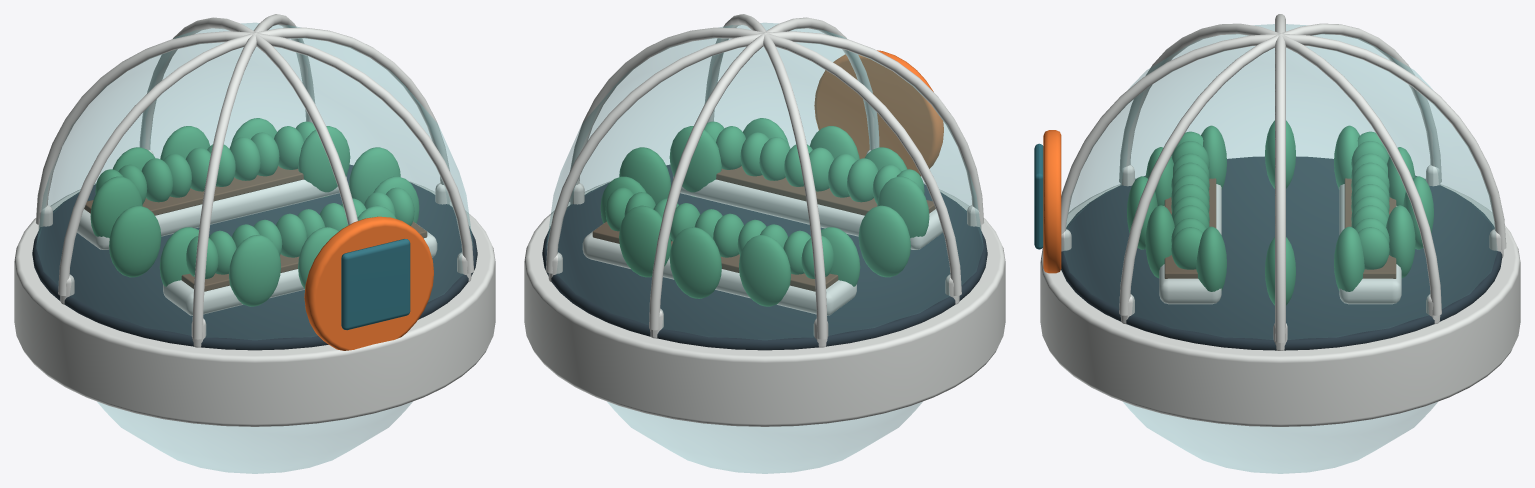
File: greenhouse.glb
3 renders of one model, left to right at view 1: azimuth 30°, elevation 25°; view 2: azimuth 150°, elevation 25°; view 3: azimuth 270°, elevation 25°, orthographic.
Parts seen in each view (by area): view 1: greenhouse glass dome, greenhouse foundation, dark floor, greenhouse entrance, white arch.003, white arch, door glass, white arch.001, white arch.002, grow bed.001, leaf.006, leaf.008 (+25 smaller); view 2: greenhouse glass dome, greenhouse foundation, dark floor, greenhouse entrance, white arch.001, white arch, white arch.002, white arch.003, grow bed, grow bed.001, leaf.006, leaf.003 (+25 smaller); view 3: greenhouse glass dome, dark floor, greenhouse foundation, white arch.002, white arch.003, white arch.001, white arch, greenhouse entrance, grow bed, grow bed.001, leaf.001, leaf.011 (+15 smaller).
Part boxes in pixels (bbox=[...]): greenhouse glass dome: bbox=[36, 23, 473, 473]; greenhouse foundation: bbox=[14, 181, 495, 426]; dark floor: bbox=[32, 164, 477, 350]; greenhouse entrance: bbox=[304, 216, 433, 350]; white arch.003: bbox=[36, 31, 473, 273]; white arch: bbox=[58, 27, 450, 295]; door glass: bbox=[341, 239, 410, 330]; white arch.001: bbox=[192, 14, 315, 339]; white arch.002: bbox=[139, 17, 357, 225]; grow bed.001: bbox=[77, 176, 346, 249]; leaf.006: bbox=[109, 205, 161, 277]; leaf.008: bbox=[229, 235, 280, 306]; greenhouse glass dome: bbox=[546, 23, 983, 473]; greenhouse foundation: bbox=[524, 181, 1005, 426]; dark floor: bbox=[542, 164, 987, 350]; greenhouse entrance: bbox=[814, 50, 943, 176]; white arch.001: bbox=[546, 31, 983, 273]; white arch: bbox=[569, 27, 961, 295]; white arch.002: bbox=[649, 17, 879, 330]; white arch.003: bbox=[704, 14, 827, 339]; grow bed: bbox=[673, 176, 942, 249]; grow bed.001: bbox=[582, 229, 856, 315]; leaf.006: bbox=[858, 205, 910, 277]; leaf.003: bbox=[669, 227, 721, 298]; greenhouse glass dome: bbox=[1063, 24, 1497, 473]; dark floor: bbox=[1061, 156, 1502, 350]; greenhouse foundation: bbox=[1040, 178, 1520, 426]; white arch.002: bbox=[1061, 33, 1506, 249]; white arch.003: bbox=[1119, 23, 1441, 315]; white arch.001: bbox=[1119, 23, 1441, 315]; white arch: bbox=[1275, 14, 1285, 342]; greenhouse entrance: bbox=[1043, 130, 1061, 273]; grow bed: bbox=[1159, 184, 1221, 304]; grow bed.001: bbox=[1339, 184, 1401, 304]; leaf.001: bbox=[1334, 226, 1364, 291]; leaf.011: bbox=[1196, 226, 1226, 291].
Bounding box in the file's own units: 4 × 3.87 × 4.05.
